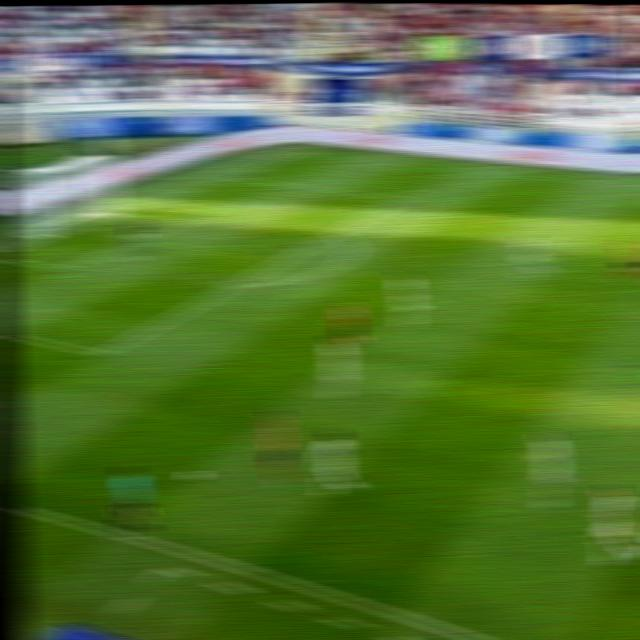bigarea_bottom_inner: (88, 339, 119, 363)
bigarea_top_inner: (386, 187, 416, 205)
bigarea_top_outter: (217, 166, 246, 183)
bottom_arc_area_intersection: (223, 274, 251, 293)
corner: (286, 143, 317, 158)
smallarea_bottom_inner: (50, 257, 80, 277)
smallarea_top_inner: (196, 200, 230, 218)
smallarea_top_outter: (145, 191, 175, 209)
top_arc_area_intersection: (321, 222, 354, 243)
